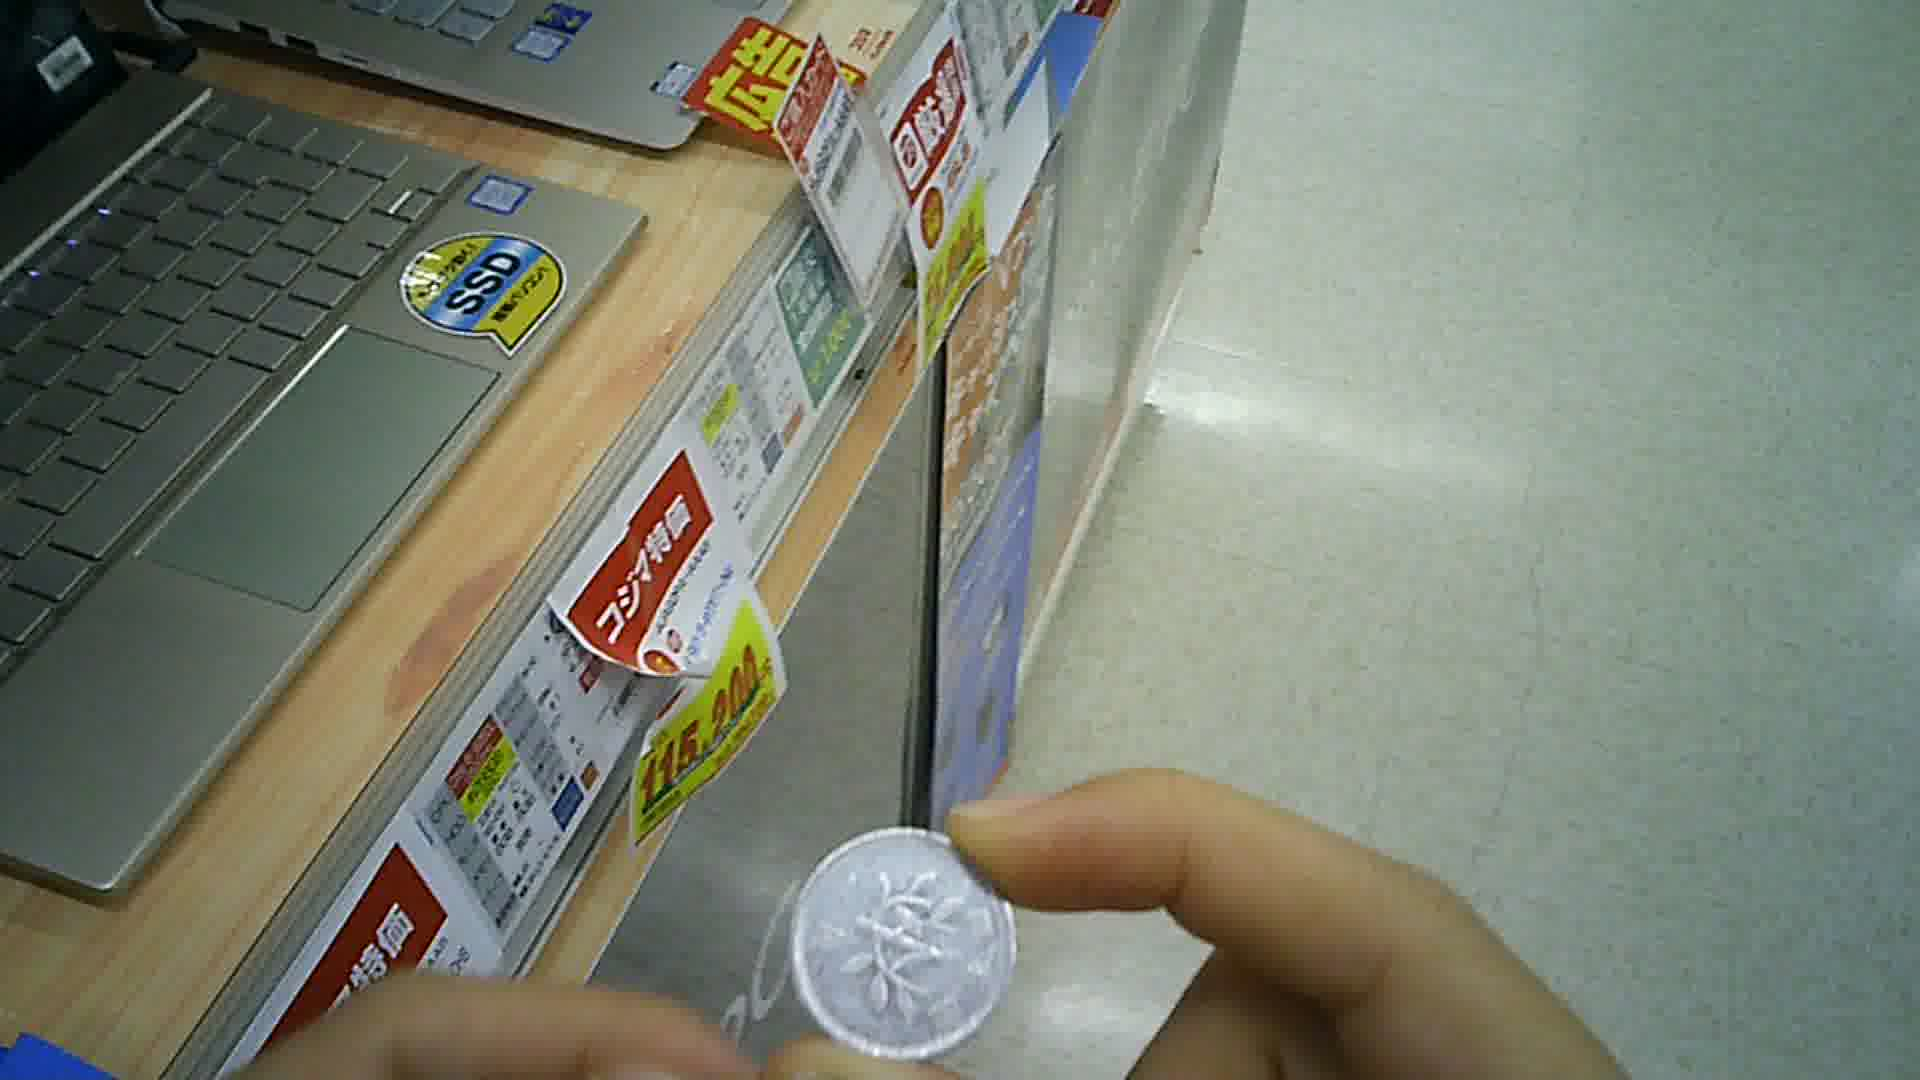1 Yen: (781, 824, 1027, 1058)
